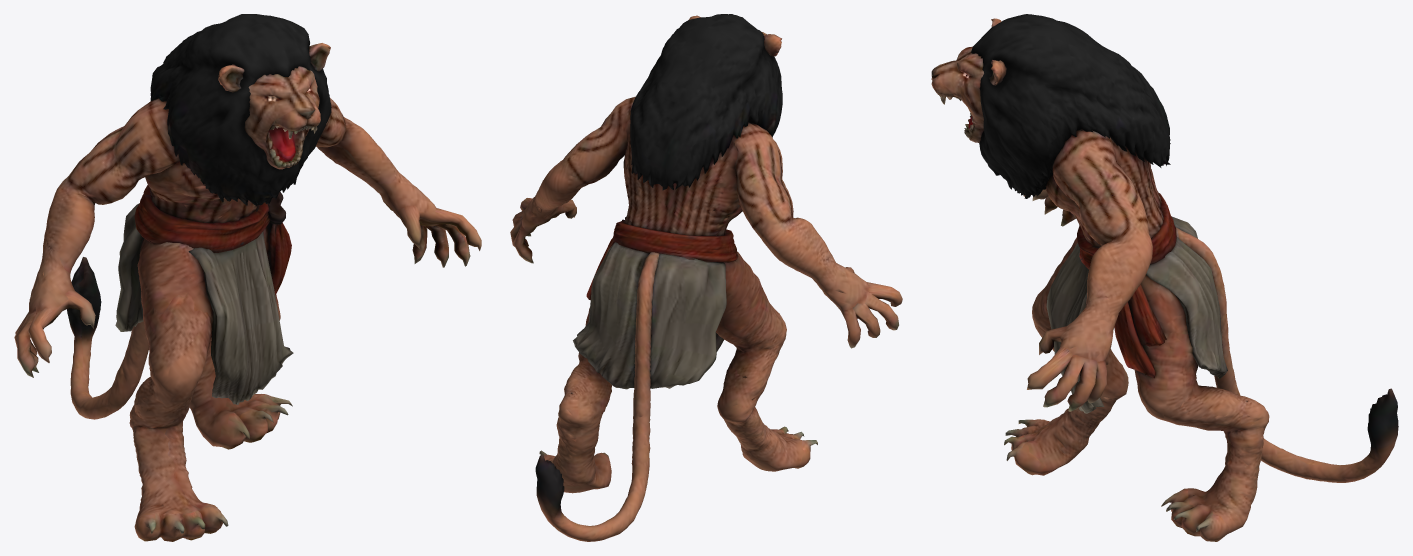
File: MZ4250 - Zimwi2.glb
3 renders of one model, left to right at view 1: azimuth 30°, elevation 25°; view 2: azimuth 150°, elevation 25°; view 3: azimuth 270°, elevation 25°, orthographic. The views are drawn at different scales.
Parts seen in each view (by area): view 1: Body.002; view 2: Body.002; view 3: Body.002.
Part boxes in pixels (<box>): Body.002: <box>14,14,481,541</box>; Body.002: <box>510,14,902,541</box>; Body.002: <box>931,14,1398,541</box>.
Bounding box in the file's own units: 65.92 × 69.88 × 62.71.
1 material, 1 textured.
